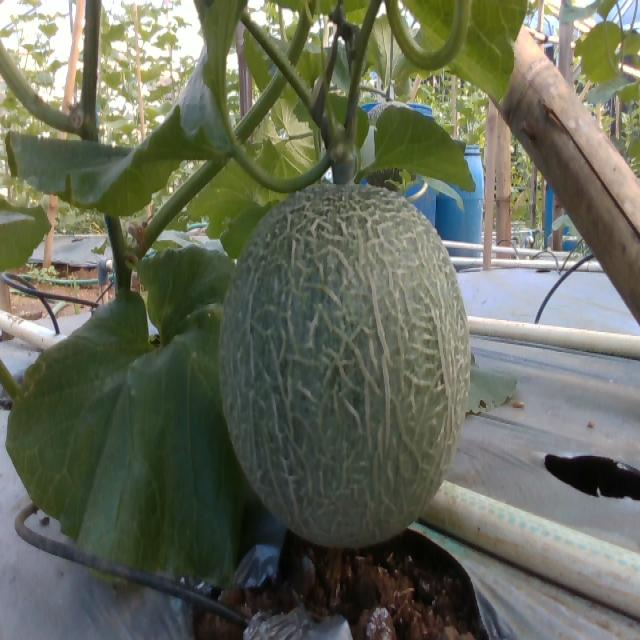melon: (221, 185, 471, 547)
